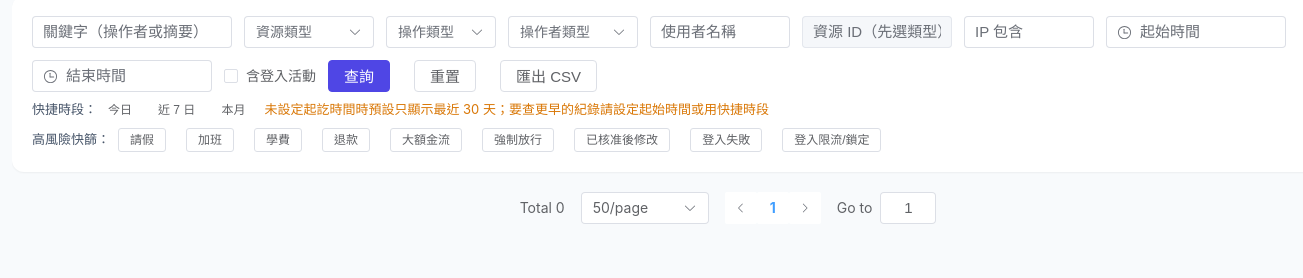
Test: AuditLogView 篩選同步 URL › 連續查詢時只顯示最新條件的結果，忽略較晚完成的舊請求
In the field with placeholder "使用者名稱": [720, 32] box [661,17,779,47], type "alice"
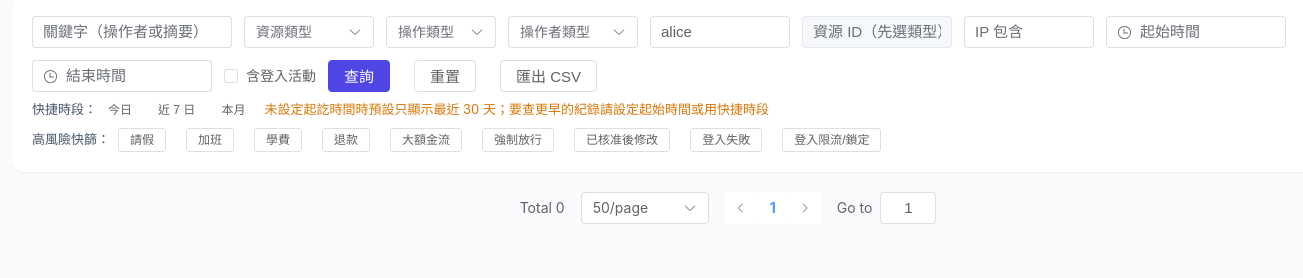
Click the button "查詢": [359, 76] box [328,60,390,92]
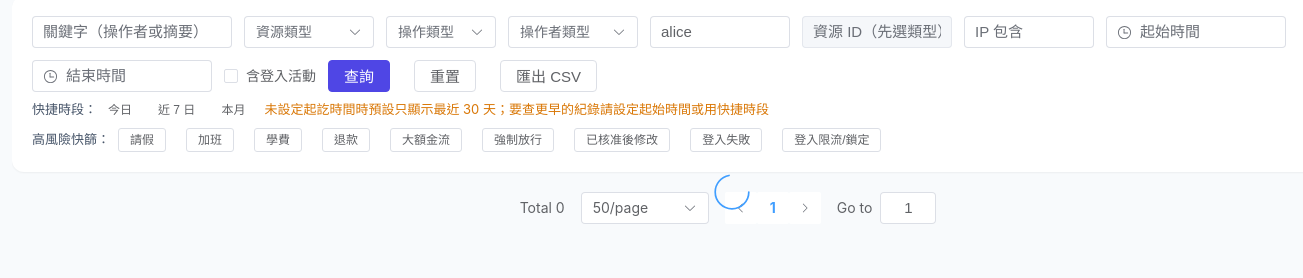
Replace the text in the field with placeholder "使用者名稱" with "bob": [720, 32] box [661,17,779,47]
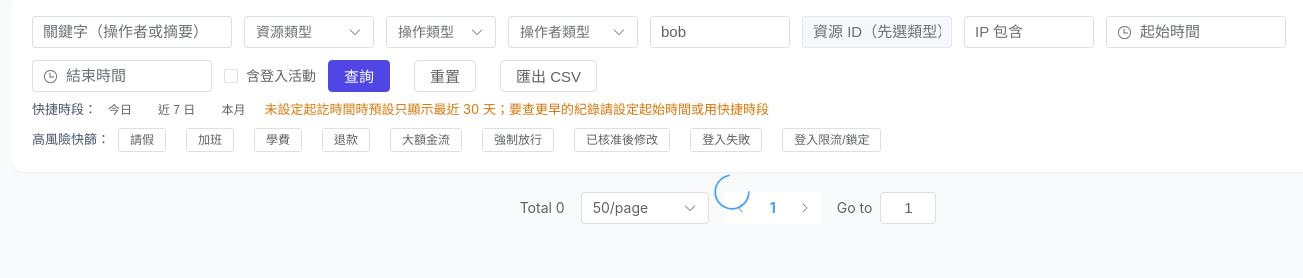
Click the button "查詢": [359, 76] box [328,60,390,92]
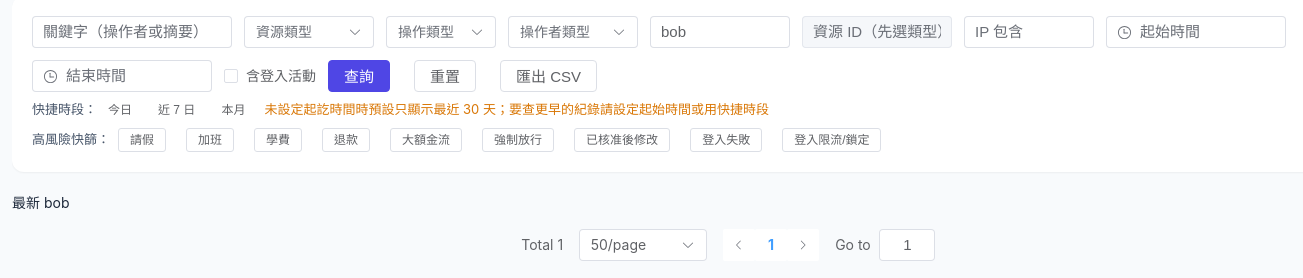
Result: the text with test id "audit-rows" reads "最新 bob" at [12,194,70,210]
